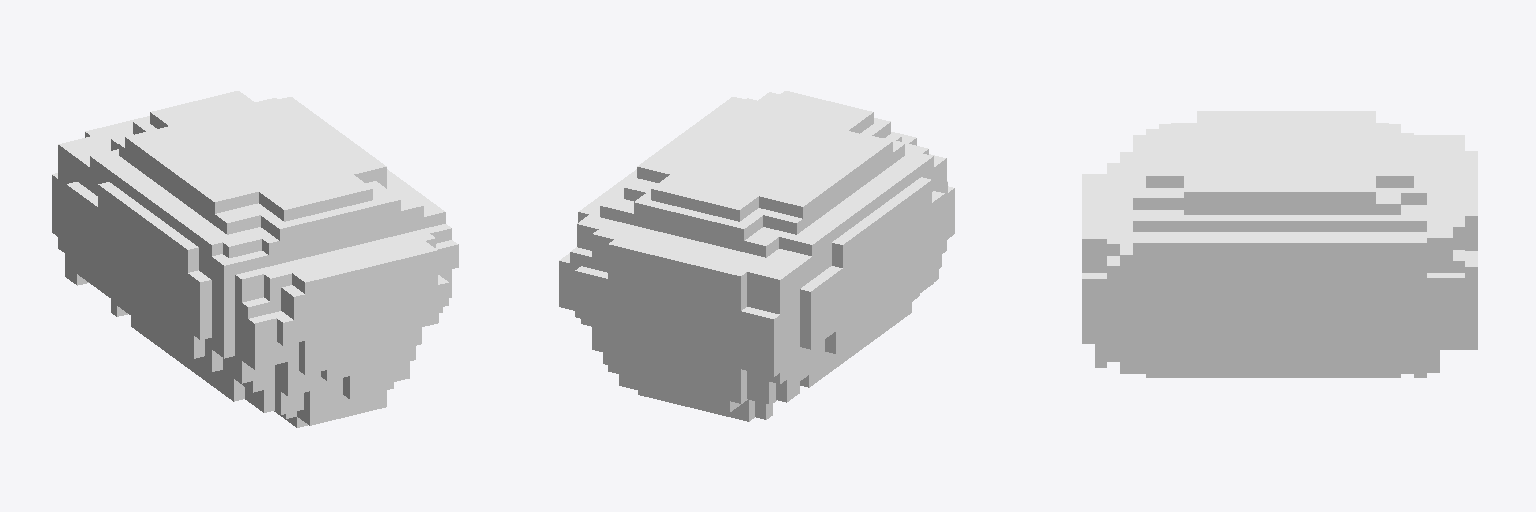
File: Cloud_00.obj
The picture shows the model from 3 angles: view 1: azimuth 30°, elevation 25°; view 2: azimuth 150°, elevation 25°; view 3: azimuth 270°, elevation 25°; orthographic projection.
Parts seen in each view (by area): view 1: object 1; view 2: object 1; view 3: object 1.
Part boxes in pixels (x1,y1,x2,y2): object 1: (52,91,458,427); object 1: (559,91,954,421); object 1: (1082,111,1477,377).
Size of the model in its own units: 2.1 by 1.8 by 3.1.